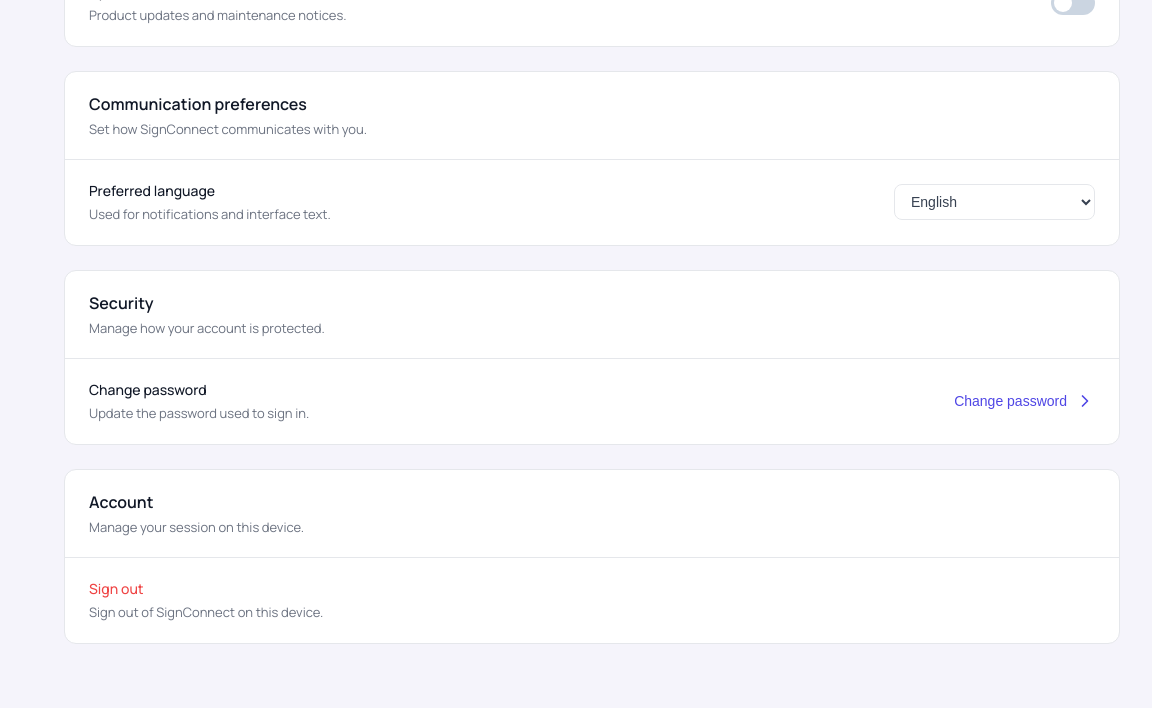
Test: InstitutionSettingsPage › closes the password modal when cancelled
(page scrolled)
Click the button "Change password" at (1025, 401), box top-left (954, 391), bottom-right (1095, 411)
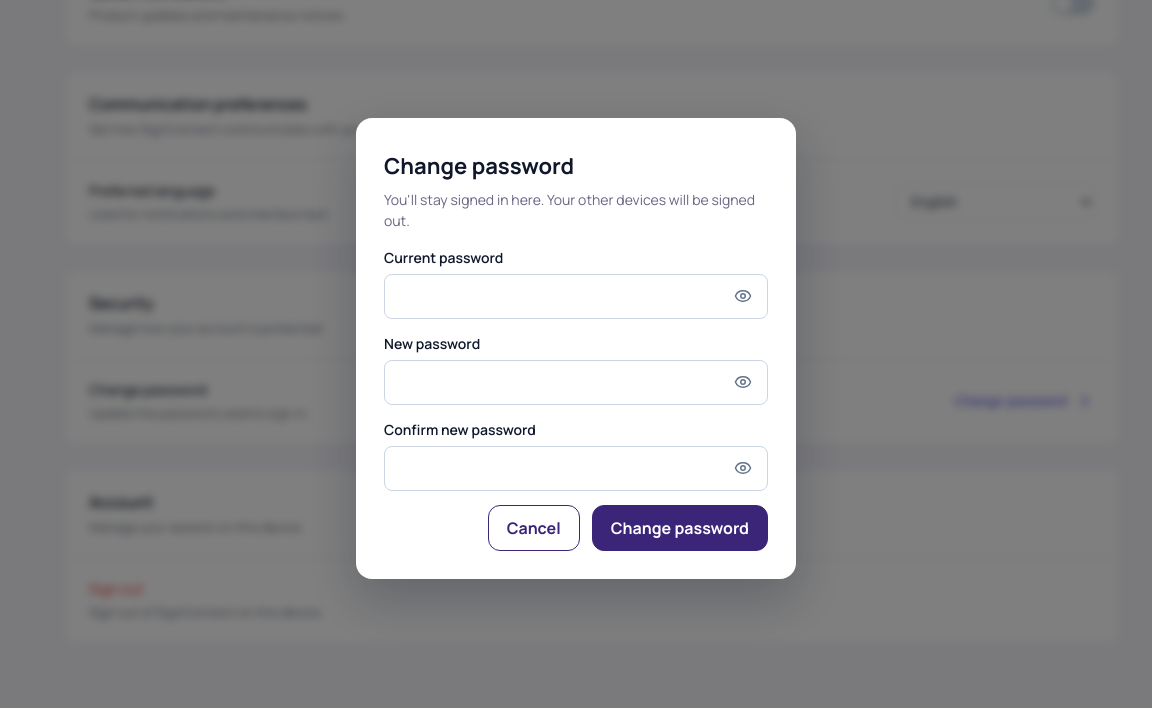
Click the button "Cancel" at (534, 528), box top-left (488, 504), bottom-right (580, 550)
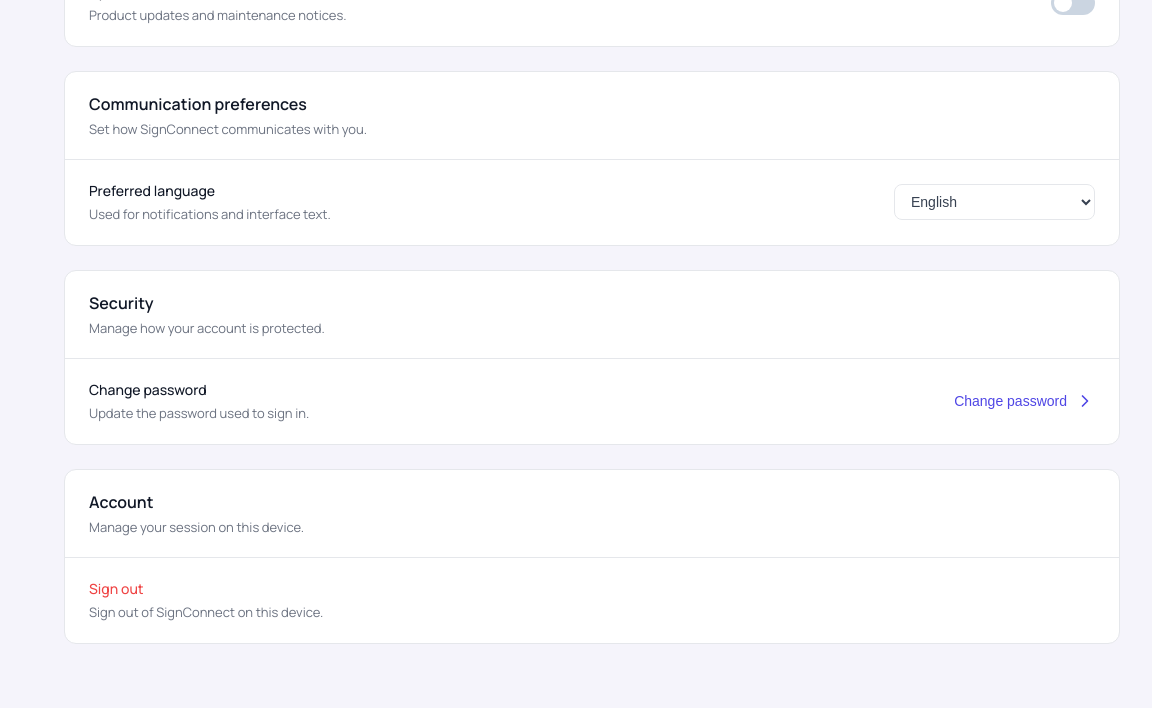
Result: the dialog is gone
